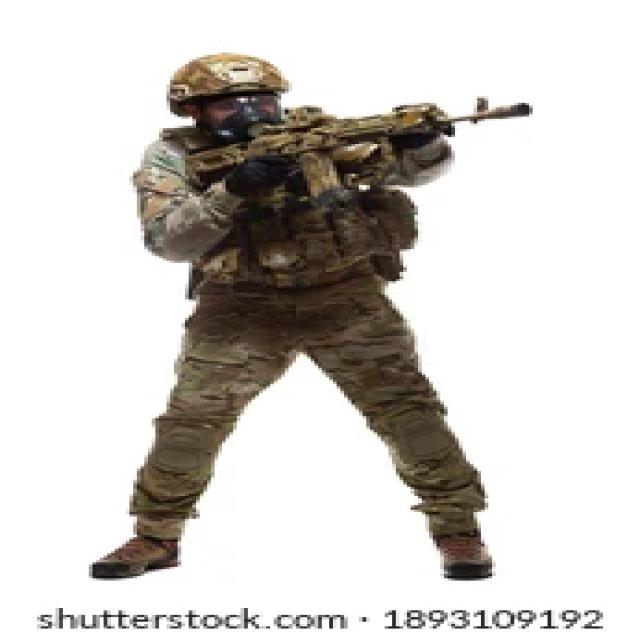soldier: (90, 60, 535, 596)
